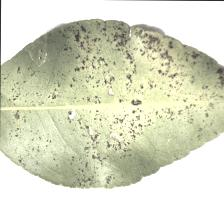canker: (76, 42, 186, 144)
